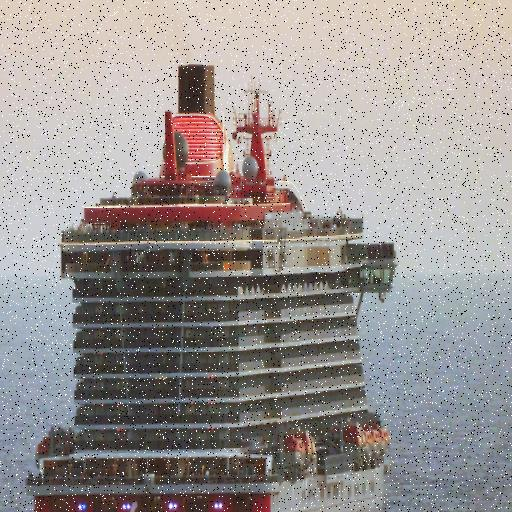cruises: (20, 36, 399, 512)
